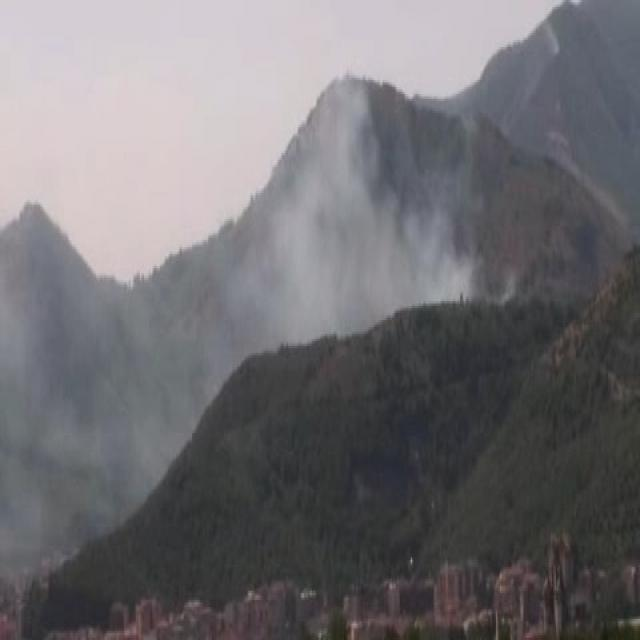smoke: (263, 81, 451, 313), (20, 281, 164, 496)
